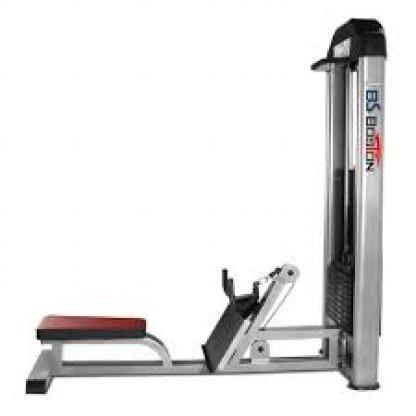Seated Cable Rows: (23, 12, 390, 394)
